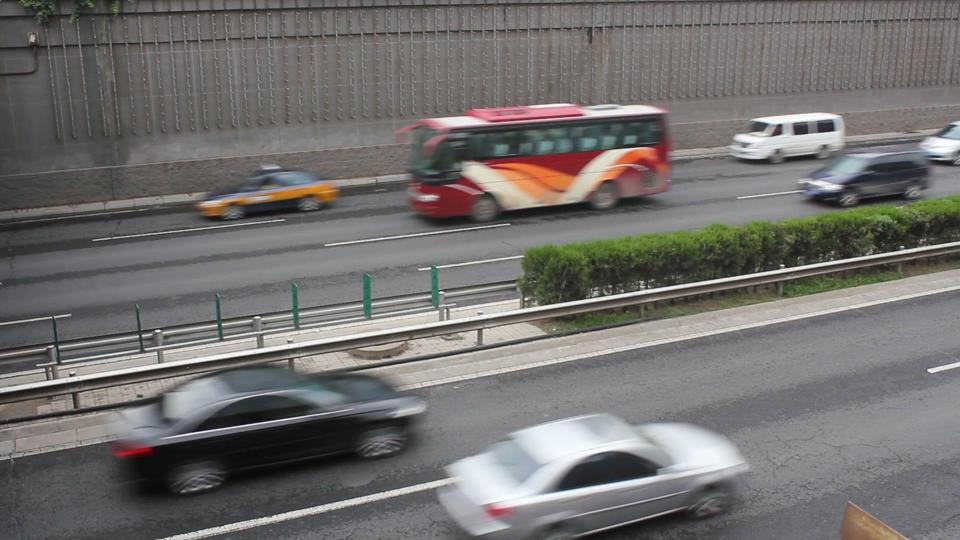bus: (398, 102, 674, 222)
car: (107, 366, 430, 496), (433, 412, 753, 540), (194, 166, 341, 221), (795, 149, 932, 208), (729, 112, 846, 163), (917, 120, 960, 165)
